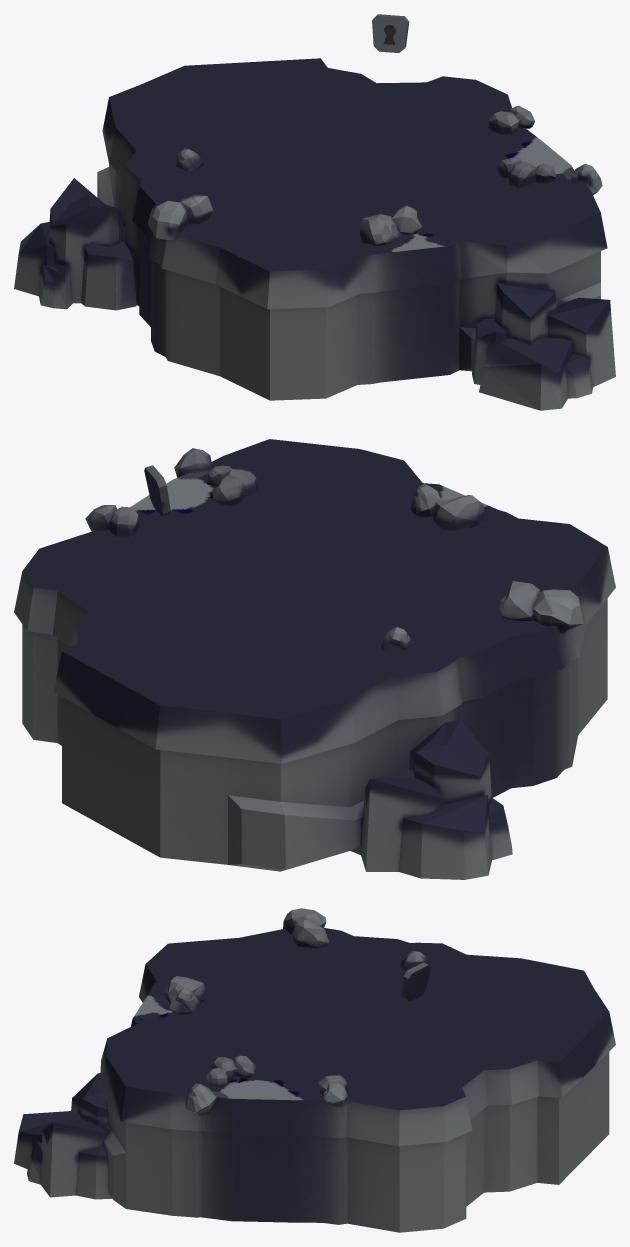
The model's file is Wall_01.FBX.
The picture shows the model from 3 angles, top to bottom: view 1: azimuth 30°, elevation 25°; view 2: azimuth 150°, elevation 25°; view 3: azimuth 270°, elevation 25°; orthographic projection. The views are drawn at different scales.
Parts seen in each view (by area): view 1: Wall_01; view 2: Wall_01; view 3: Wall_01.
Boxes of the visible parts, left/top/right/bottom form: Wall_01: left=14, top=14, right=615, bottom=410; Wall_01: left=14, top=439, right=615, bottom=879; Wall_01: left=14, top=908, right=615, bottom=1232.
Size of the model in its own units: 21.25 by 10.47 by 26.31.
